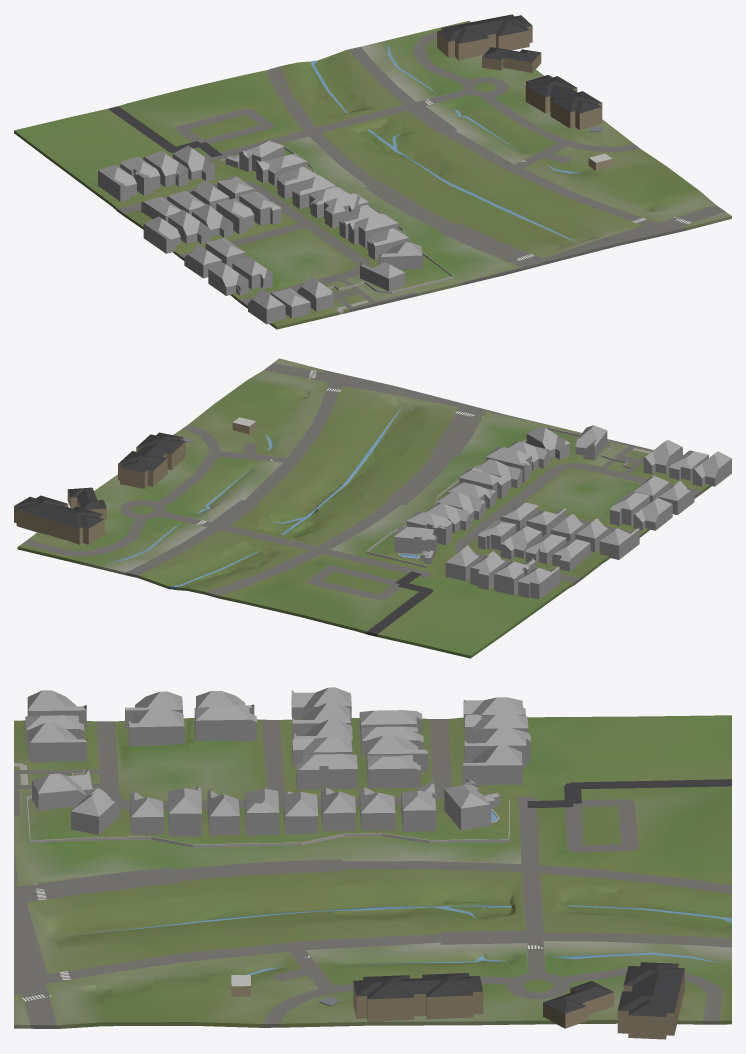
3 renders of one model, top to bottom at view 1: azimuth 30°, elevation 25°; view 2: azimuth 150°, elevation 25°; view 3: azimuth 270°, elevation 25°, orthographic. The views are drawn at different scales.
Visible parts, largest first — view 1: D--3-2.L0:utd:matte, D--3-2.L0:utd:matte:flat, D--3-2.L0:utd:water; view 2: D--3-2.L0:utd:matte, D--3-2.L0:utd:matte:flat, D--3-2.L0:utd:water; view 3: D--3-2.L0:utd:matte, D--3-2.L0:utd:matte:flat, D--3-2.L0:utd:water.
Boxes of the visible parts, bbox=[...] form: D--3-2.L0:utd:matte: bbox=[14, 21, 731, 329]; D--3-2.L0:utd:matte:flat: bbox=[98, 14, 612, 324]; D--3-2.L0:utd:water: bbox=[310, 44, 581, 242]; D--3-2.L0:utd:matte: bbox=[17, 358, 711, 658]; D--3-2.L0:utd:matte:flat: bbox=[14, 417, 731, 599]; D--3-2.L0:utd:water: bbox=[107, 407, 419, 587]; D--3-2.L0:utd:matte: bbox=[14, 715, 731, 1028]; D--3-2.L0:utd:matte:flat: bbox=[25, 687, 684, 1039]; D--3-2.L0:utd:water: bbox=[84, 810, 731, 974].
Bounding box in the file's own units: 277 × 17.06 × 256.
